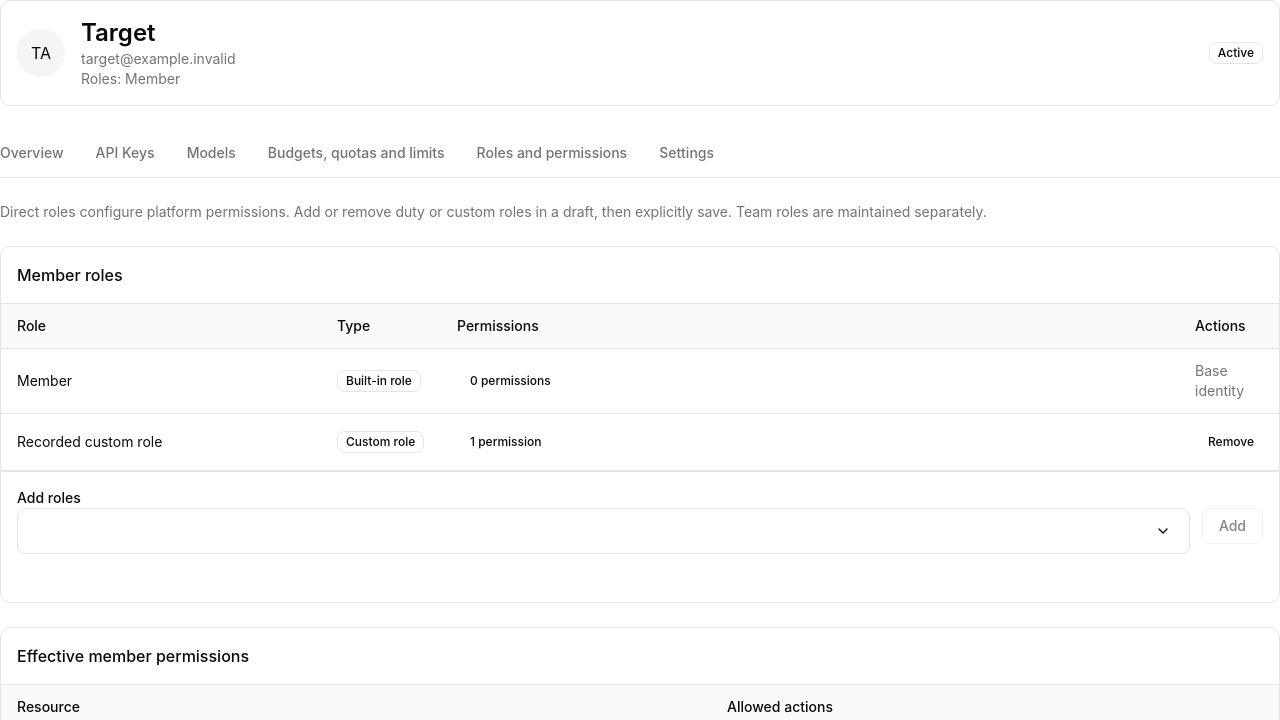
Scenario: reads full permissions only for explicit exact role Dialog and closes on Escape
Click the button with aria-label "View full permissions for Recorded custom role": (506, 442) [457,426,554,458]
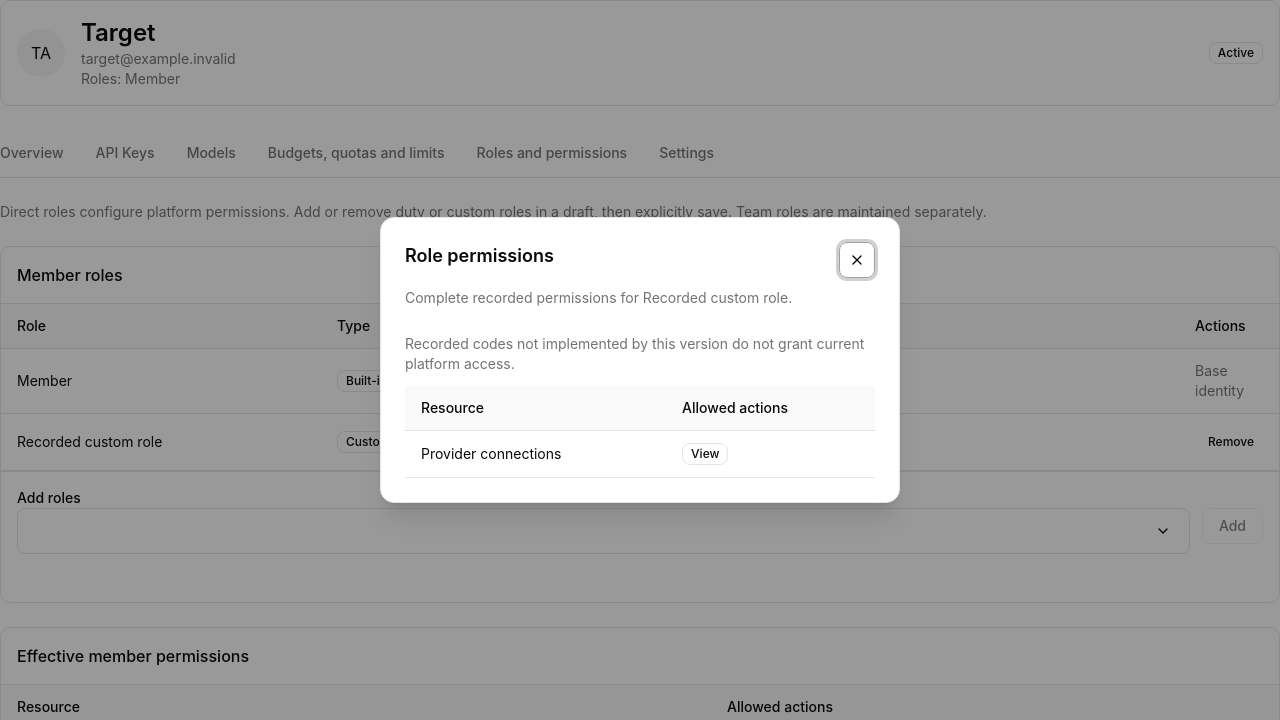
Now the dialog shows "Allowed actions", box [682,399,788,416]
Press Escape in the button named "Close", box [839,242,875,278]
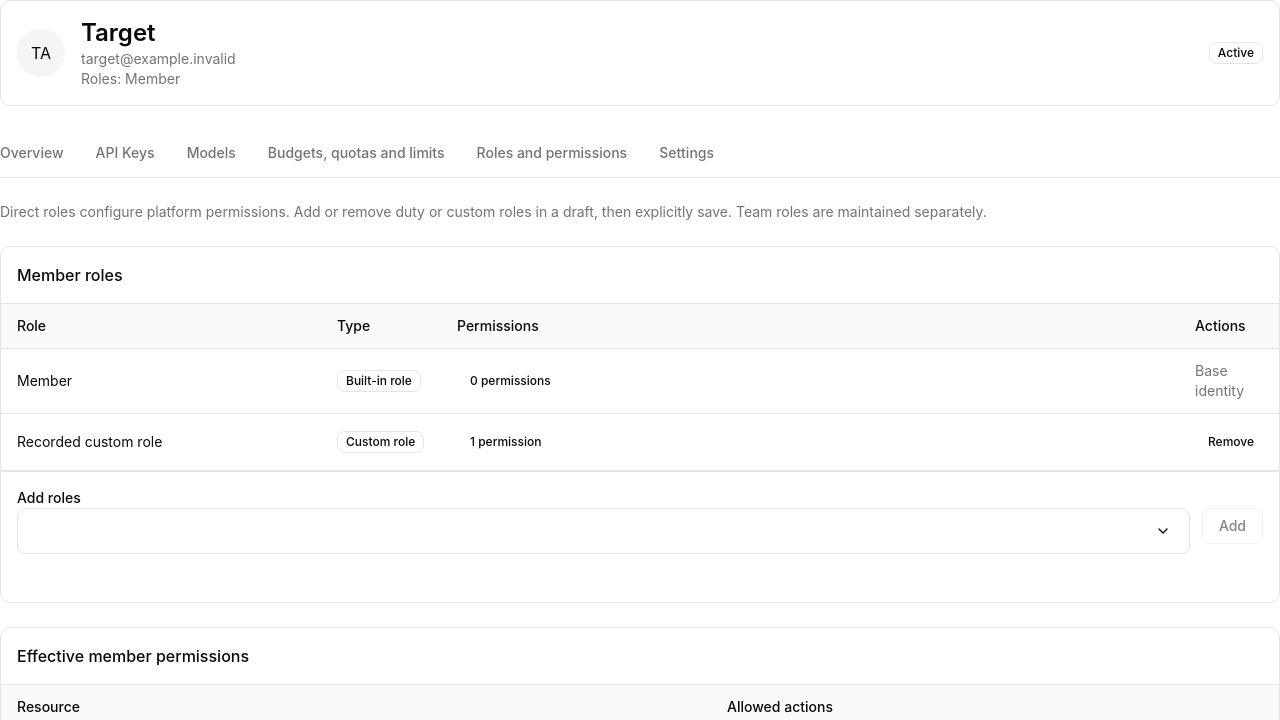
Now the dialog is gone
